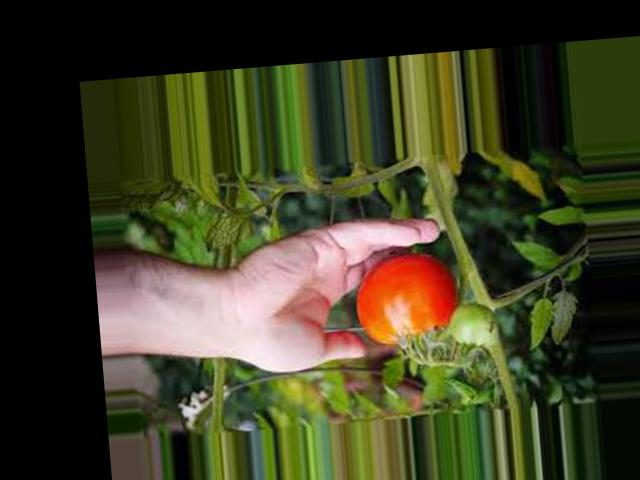tomato: (352, 250, 463, 349)
